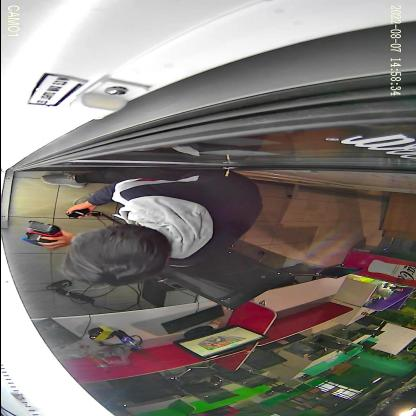blue: (22, 232, 57, 246)
red: (26, 221, 62, 238)
